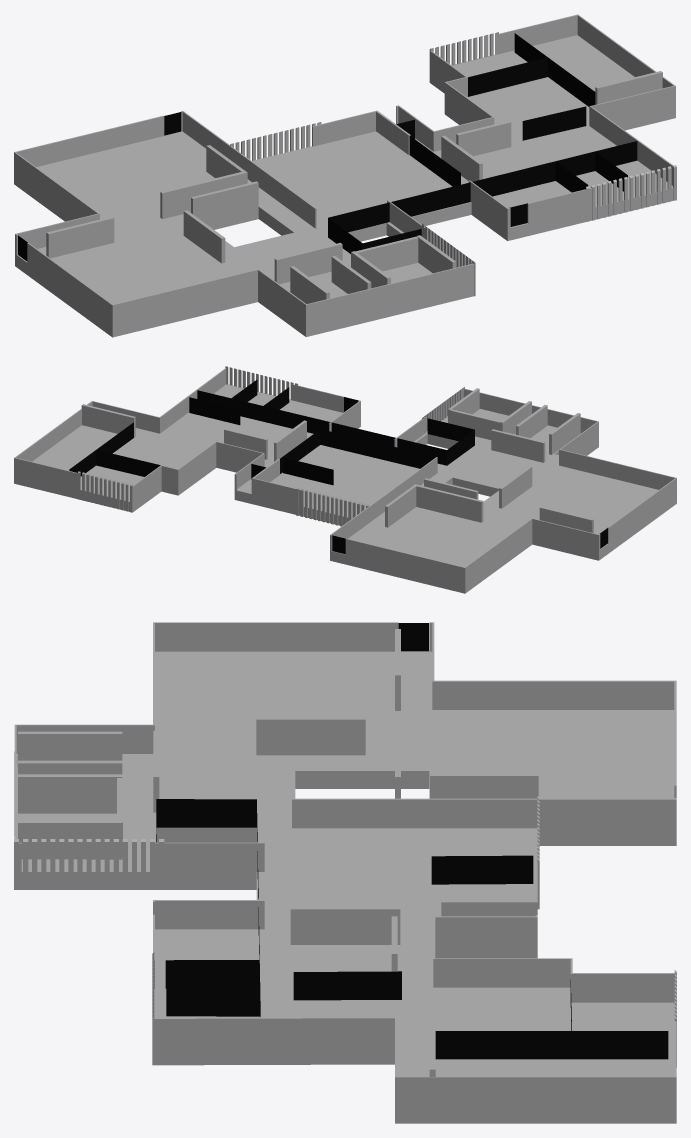
Rendered from piso2.fbx.
The picture shows the model from 3 angles, top to bottom: view 1: azimuth 30°, elevation 25°; view 2: azimuth 150°, elevation 25°; view 3: azimuth 270°, elevation 25°; orthographic projection. The views are drawn at different scales.
Parts seen in each view (by area): view 1: piso_0_2; view 2: piso_0_2; view 3: piso_0_2.
Part boxes in pixels (bbox=[...]): piso_0_2: bbox=[14, 14, 676, 337]; piso_0_2: bbox=[14, 366, 676, 593]; piso_0_2: bbox=[14, 622, 676, 1123].
Bounding box in the file's own units: 9030 × 510 × 5558.
Materials: 1 (1 with a texture image).
